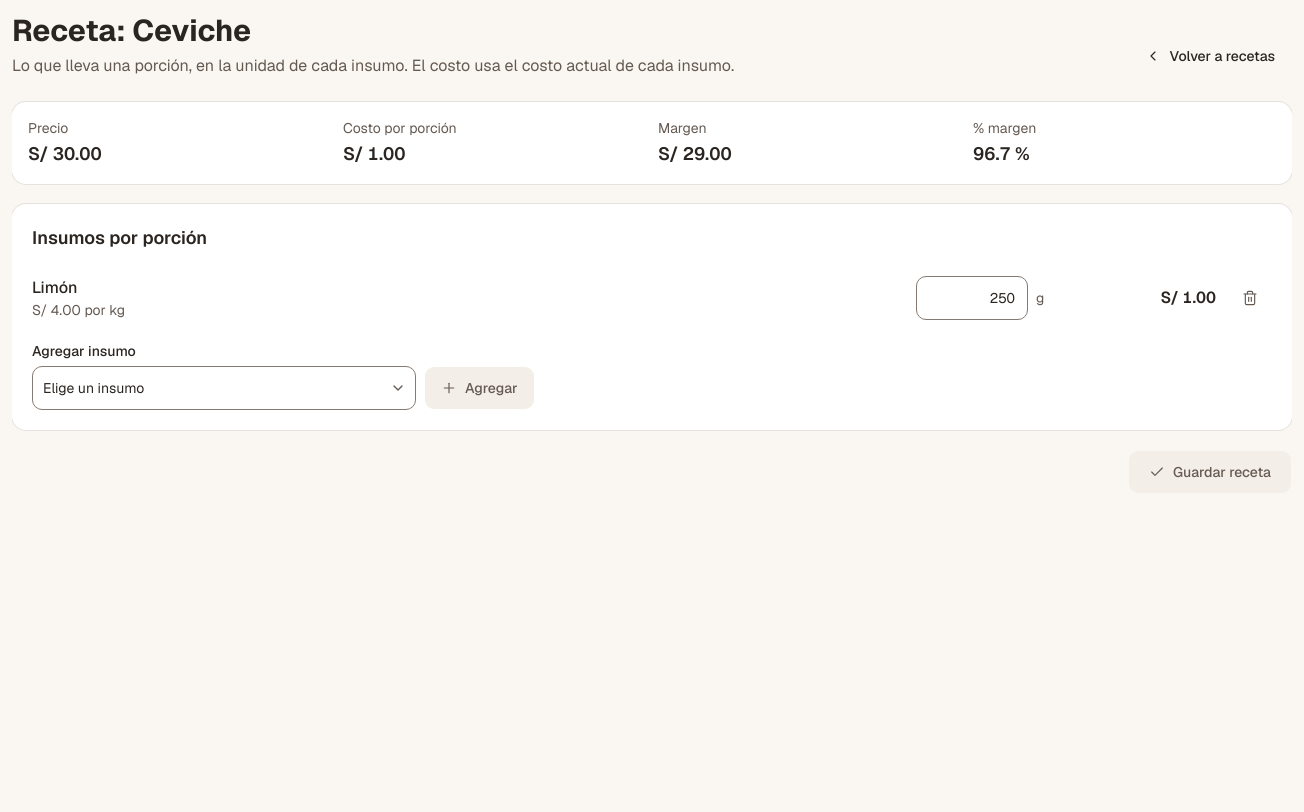
it: RecipeEditorView › agregar un insumo y escribir su cantidad recalcula el costo al instante y se guarda completo
expect the button "Guardar receta" is disabled: met, box [1128,450,1292,494]
Step 1. Select "Cebolla (g)" in the dropdown labelled "Agregar insumo" → (224, 388), box [32,366,416,410]
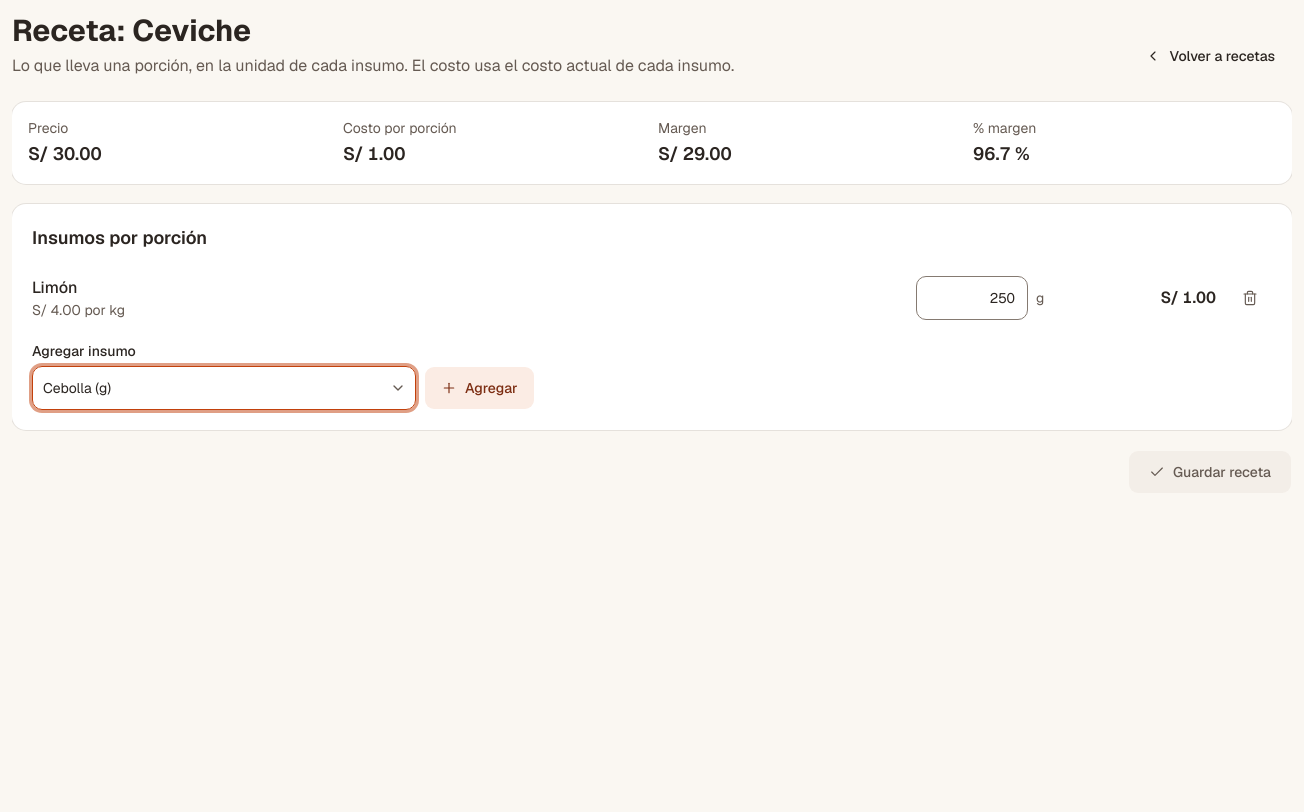
Step 2. Click the button "Agregar" → (479, 388), box [424,366,535,410]
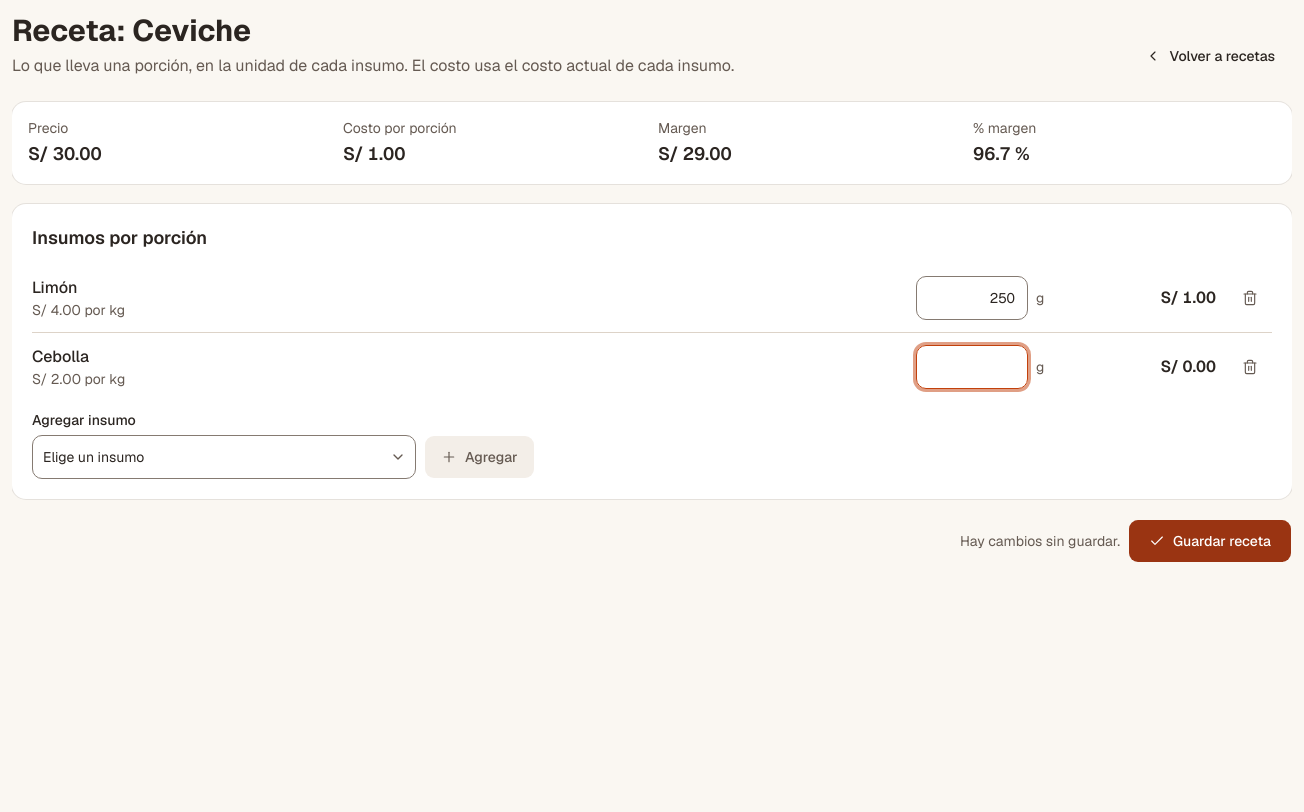
Step 3. Type "100" into the field labelled "Cebolla" → (972, 366), box [916,344,1028,388]
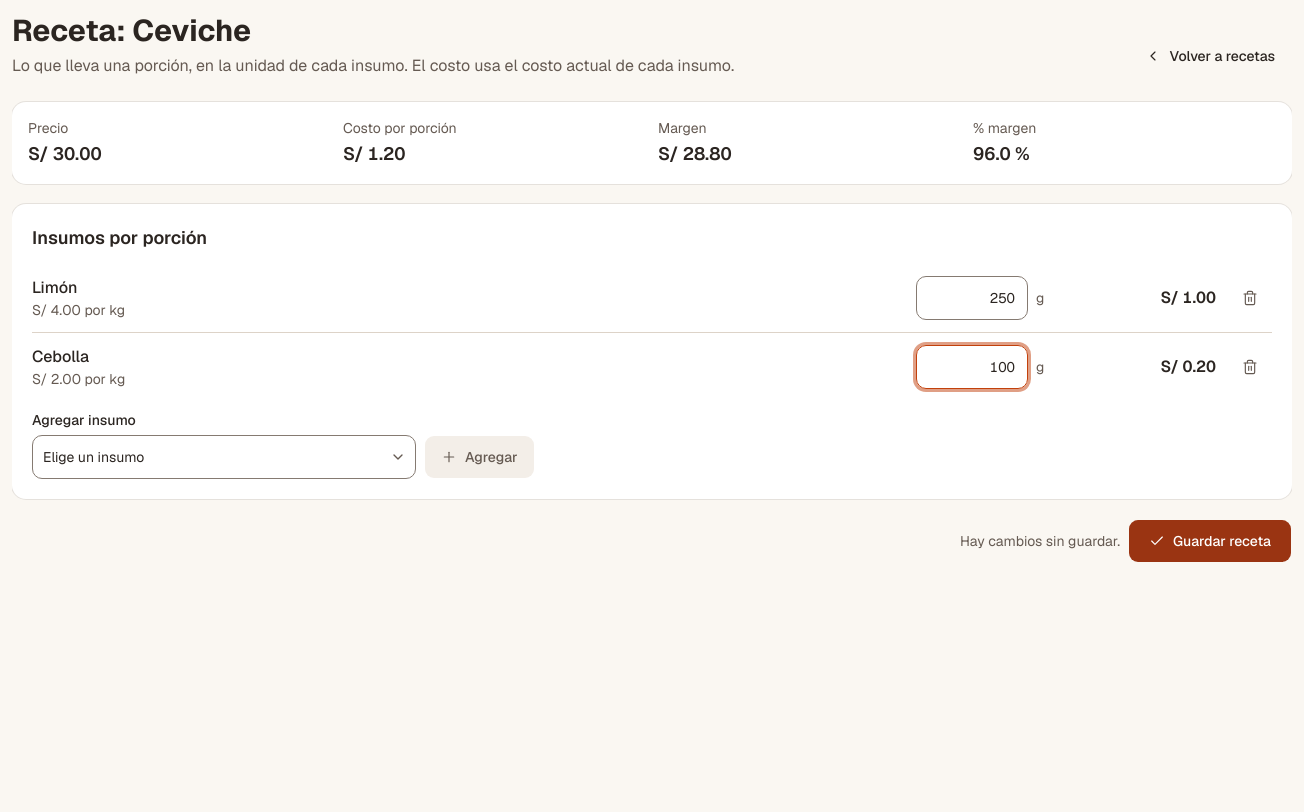
expect the text "Hay cambios sin guardar." is shown: met, box [960,530,1120,550]
Step 4. Click the button "Guardar receta" → (1210, 540), box [1128,518,1292,562]
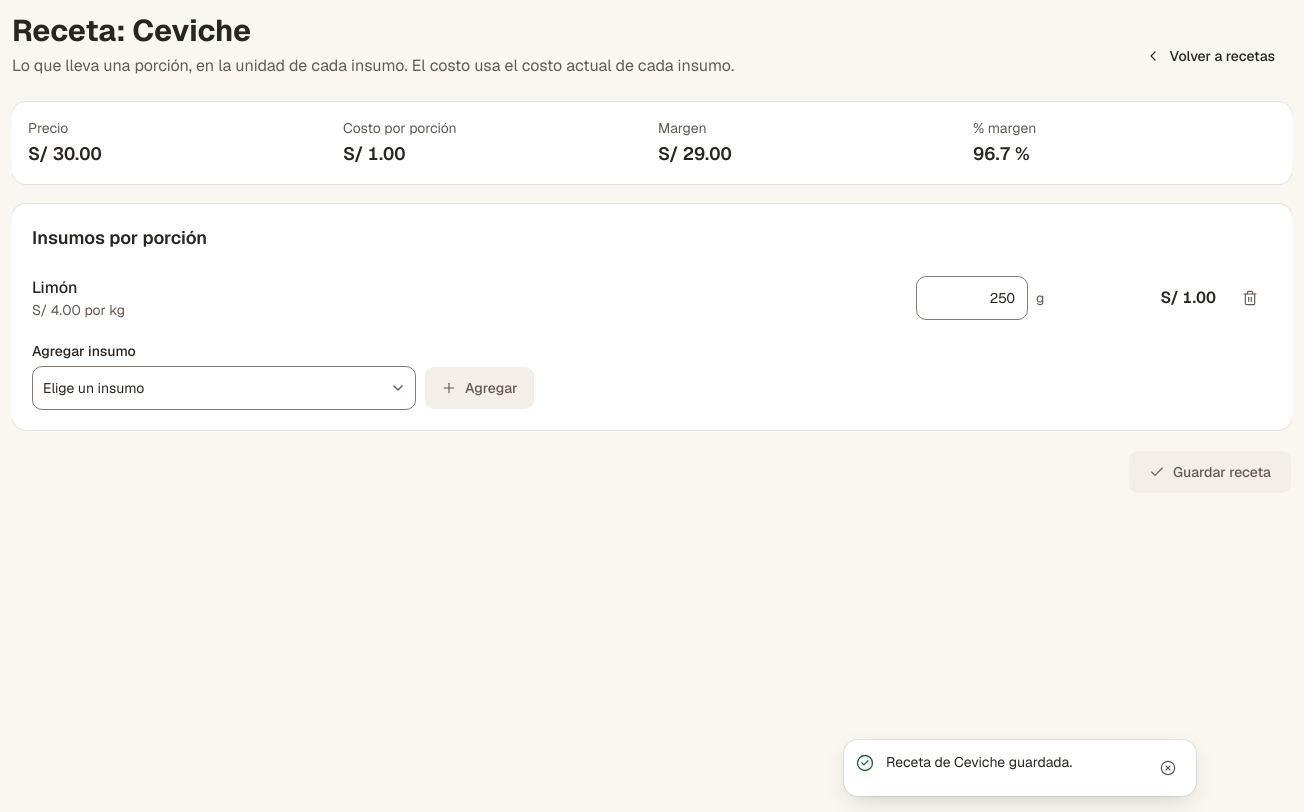
expect the text "Receta de Ceviche guardada." is shown: met, box [886,753,1072,771]
